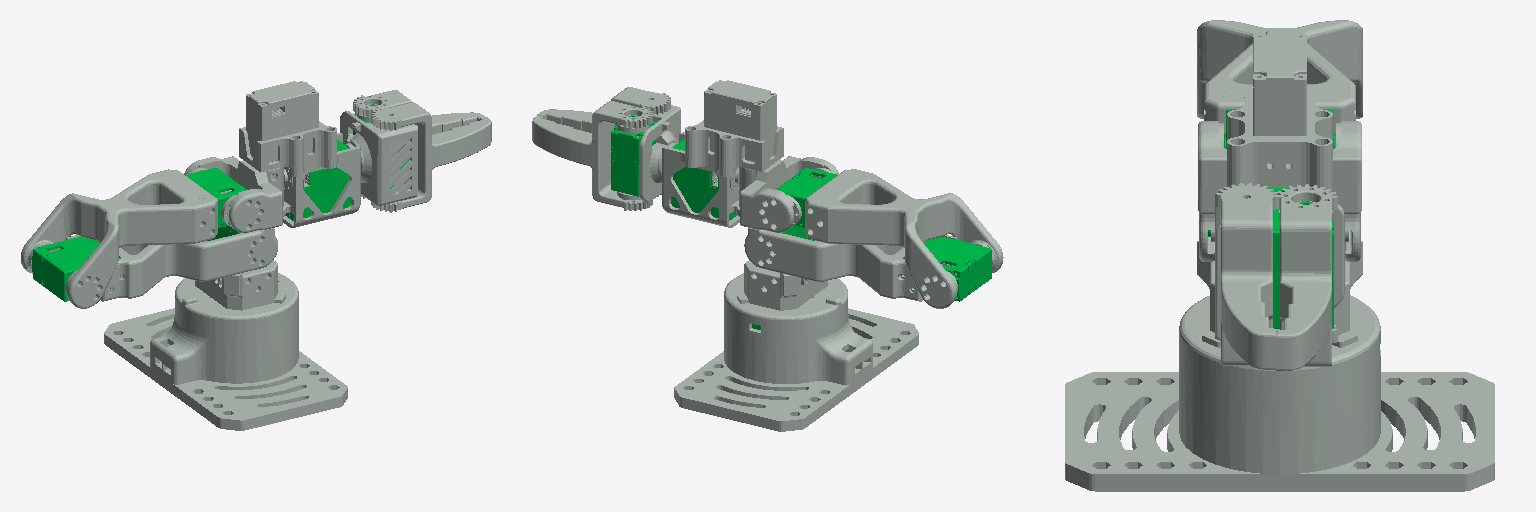
The robot description file, URDF, robot "stararm102_description":
<?xml version='1.0' encoding='utf-8'?>
<robot name="stararm102_description">
  <material name="anodized_grey">
    <color rgba="0.720 0.760 0.730 1" />
  </material>
  <material name="motor_green">
    <color rgba="0.000 0.784 0.325 1" />
  </material>
  <link name="base_link">
    <inertial>
      <origin xyz="-0.00507886641574018 -3.42055196168034E-05 0.0170541570471663" rpy="0 0 0" />
      <mass value="0.155441639095221" />
      <inertia ixx="0.000211774147683076" ixy="-1.12835975463621E-08" ixz="-1.66282304179735E-06" iyy="0.000108041554696676" iyz="3.2421968022911E-08" izz="0.000295757258206271" />
    </inertial>
    <collision>
      <origin xyz="0 0 0" rpy="0 0 0" />
      <geometry>
        <mesh filename="package://stararm102/meshes/base_link.STL" />
      </geometry>
    </collision>
    <visual>
      <origin xyz="0 0 0" rpy="0 0 0" />
      <geometry>
        <mesh filename="package://stararm102/meshes/shells/base_link__0.STL" />
      </geometry>
      <material name="motor_green" />
    </visual>
    <visual>
      <origin xyz="0 0 0" rpy="0 0 0" />
      <geometry>
        <mesh filename="package://stararm102/meshes/shells/base_link__1.STL" />
      </geometry>
      <material name="anodized_grey" />
    </visual>
    <visual>
      <origin xyz="0 0 0" rpy="0 0 0" />
      <geometry>
        <mesh filename="package://stararm102/meshes/shells/base_link__2.STL" />
      </geometry>
      <material name="anodized_grey" />
    </visual>
    <visual>
      <origin xyz="0 0 0" rpy="0 0 0" />
      <geometry>
        <mesh filename="package://stararm102/meshes/shells/base_link__3.STL" />
      </geometry>
      <material name="anodized_grey" />
    </visual>
    <visual>
      <origin xyz="0 0 0" rpy="0 0 0" />
      <geometry>
        <mesh filename="package://stararm102/meshes/shells/base_link__4.STL" />
      </geometry>
      <material name="anodized_grey" />
    </visual>
  </link>
  <link name="link1">
    <inertial>
      <origin xyz="-0.000860795817551681 3.48041004087085E-05 0.0388877617080775" rpy="0 0 0" />
      <mass value="0.0365919096309897" />
      <inertia ixx="1.06390422111377E-05" ixy="1.47026736408431E-13" ixz="3.78567348260604E-07" iyy="6.84495444026531E-06" iyz="-3.37080406447148E-09" izz="1.2039407998213E-05" />
    </inertial>
    <collision>
      <origin xyz="0 0 0" rpy="0 0 0" />
      <geometry>
        <mesh filename="package://stararm102/meshes/link1.STL" />
      </geometry>
    </collision>
    <visual>
      <origin xyz="0 0 0" rpy="0 0 0" />
      <geometry>
        <mesh filename="package://stararm102/meshes/shells/link1__0.STL" />
      </geometry>
      <material name="motor_green" />
    </visual>
    <visual>
      <origin xyz="0 0 0" rpy="0 0 0" />
      <geometry>
        <mesh filename="package://stararm102/meshes/shells/link1__1.STL" />
      </geometry>
      <material name="anodized_grey" />
    </visual>
    <visual>
      <origin xyz="0 0 0" rpy="0 0 0" />
      <geometry>
        <mesh filename="package://stararm102/meshes/shells/link1__2.STL" />
      </geometry>
      <material name="anodized_grey" />
    </visual>
    <visual>
      <origin xyz="0 0 0" rpy="0 0 0" />
      <geometry>
        <mesh filename="package://stararm102/meshes/shells/link1__3.STL" />
      </geometry>
      <material name="anodized_grey" />
    </visual>
    <visual>
      <origin xyz="0 0 0" rpy="0 0 0" />
      <geometry>
        <mesh filename="package://stararm102/meshes/shells/link1__4.STL" />
      </geometry>
      <material name="anodized_grey" />
    </visual>
  </link>
  <joint name="joint1" type="revolute">
    <origin xyz="0 0 0.0283500000000012" rpy="0 0 0" />
    <parent link="base_link" />
    <child link="link1" />
    <axis xyz="0 0 -1" />
    <limit lower="-2.27" upper="2.27" effort="100" velocity="1" />
  </joint>
  <link name="link2">
    <inertial>
      <origin xyz="0.065445114144764 4.80766137382835E-05 1.86081119329107E-05" rpy="0 0 0" />
      <mass value="0.0677741447743621" />
      <inertia ixx="2.49505701233235E-05" ixy="-1.4323495575068E-06" ixz="-2.88763068172859E-09" iyy="7.27062347454161E-05" iyz="5.01460295474944E-11" izz="5.48857485408553E-05" />
    </inertial>
    <collision>
      <origin xyz="0 0 0" rpy="0 0 0" />
      <geometry>
        <mesh filename="package://stararm102/meshes/link2.STL" />
      </geometry>
    </collision>
    <visual>
      <origin xyz="0 0 0" rpy="0 0 0" />
      <geometry>
        <mesh filename="package://stararm102/meshes/shells/link2__0.STL" />
      </geometry>
      <material name="motor_green" />
    </visual>
    <visual>
      <origin xyz="0 0 0" rpy="0 0 0" />
      <geometry>
        <mesh filename="package://stararm102/meshes/shells/link2__1.STL" />
      </geometry>
      <material name="anodized_grey" />
    </visual>
    <visual>
      <origin xyz="0 0 0" rpy="0 0 0" />
      <geometry>
        <mesh filename="package://stararm102/meshes/shells/link2__2.STL" />
      </geometry>
      <material name="anodized_grey" />
    </visual>
    <visual>
      <origin xyz="0 0 0" rpy="0 0 0" />
      <geometry>
        <mesh filename="package://stararm102/meshes/shells/link2__3.STL" />
      </geometry>
      <material name="anodized_grey" />
    </visual>
    <visual>
      <origin xyz="0 0 0" rpy="0 0 0" />
      <geometry>
        <mesh filename="package://stararm102/meshes/shells/link2__4.STL" />
      </geometry>
      <material name="anodized_grey" />
    </visual>
  </link>
  <joint name="joint2" type="revolute">
    <origin xyz="0.000100000000001007 0 0.0620250000000017" rpy="-1.5707963267949 0 3.14159265358979" />
    <parent link="link1" />
    <child link="link2" />
    <axis xyz="0 0 -1" />
    <limit lower="0" upper="3.14" effort="100" velocity="1" />
  </joint>
  <link name="link3">
    <inertial>
      <origin xyz="0.0139670047463857 -0.0548362979855048 -0.0260232297832349" rpy="0 0 0" />
      <mass value="0.062483417986533" />
      <inertia ixx="6.07869930598935E-05" ixy="6.07457290650578E-06" ixz="1.72220333532639E-10" iyy="2.4119750081723E-05" iyz="-1.05927086495088E-08" izz="4.79411867478519E-05" />
    </inertial>
    <collision>
      <origin xyz="0 0 0" rpy="0 0 0" />
      <geometry>
        <mesh filename="package://stararm102/meshes/link3.STL" />
      </geometry>
    </collision>
    <visual>
      <origin xyz="0 0 0" rpy="0 0 0" />
      <geometry>
        <mesh filename="package://stararm102/meshes/shells/link3__0.STL" />
      </geometry>
      <material name="motor_green" />
    </visual>
    <visual>
      <origin xyz="0 0 0" rpy="0 0 0" />
      <geometry>
        <mesh filename="package://stararm102/meshes/shells/link3__1.STL" />
      </geometry>
      <material name="anodized_grey" />
    </visual>
    <visual>
      <origin xyz="0 0 0" rpy="0 0 0" />
      <geometry>
        <mesh filename="package://stararm102/meshes/shells/link3__2.STL" />
      </geometry>
      <material name="anodized_grey" />
    </visual>
    <visual>
      <origin xyz="0 0 0" rpy="0 0 0" />
      <geometry>
        <mesh filename="package://stararm102/meshes/shells/link3__3.STL" />
      </geometry>
      <material name="anodized_grey" />
    </visual>
    <visual>
      <origin xyz="0 0 0" rpy="0 0 0" />
      <geometry>
        <mesh filename="package://stararm102/meshes/shells/link3__4.STL" />
      </geometry>
      <material name="anodized_grey" />
    </visual>
  </link>
  <joint name="joint3" type="revolute">
    <origin xyz="0.120565306190578 -0.0100999999999999 0.0259999999999978" rpy="0 0 -1.5707963267949" />
    <parent link="link2" />
    <child link="link3" />
    <axis xyz="0 0 -1" />
    <limit lower="-3.14" upper="0" effort="100" velocity="1" />
  </joint>
  <link name="link4">
    <inertial>
      <origin xyz="0.0233852853653051 -0.00064950134956597 -4.72632631462466E-06" rpy="0 0 0" />
      <mass value="0.0290020616470162" />
      <inertia ixx="1.1313445878846E-05" ixy="2.04495765263871E-08" ixz="3.96927019964726E-09" iyy="1.29471641752426E-05" iyz="1.58418299959233E-09" izz="5.57726165351631E-06" />
    </inertial>
    <collision>
      <origin xyz="0 0 0" rpy="0 0 0" />
      <geometry>
        <mesh filename="package://stararm102/meshes/link4.STL" />
      </geometry>
    </collision>
    <visual>
      <origin xyz="0 0 0" rpy="0 0 0" />
      <geometry>
        <mesh filename="package://stararm102/meshes/shells/link4__0.STL" />
      </geometry>
      <material name="anodized_grey" />
    </visual>
  </link>
  <joint name="joint4" type="revolute">
    <origin xyz="0.0162194771204603 -0.107604056191361 -0.0259999999999976" rpy="0 0 -1.5707963267949" />
    <parent link="link3" />
    <child link="link4" />
    <axis xyz="0 0 -1" />
    <limit lower="-1.57" upper="2.2" effort="100" velocity="1" />
  </joint>
  <link name="link5">
    <inertial>
      <origin xyz="0.0239721333681056 1.60405714164091E-06 0.0123439857182104" rpy="0 0 0" />
      <mass value="0.04381347428302" />
      <inertia ixx="8.71603004200794E-06" ixy="6.14891079200239E-10" ixz="2.11746739586546E-07" iyy="1.364277032058E-05" iyz="1.11466543450896E-10" izz="1.22790054604825E-05" />
    </inertial>
    <collision>
      <origin xyz="0 0 0" rpy="0 0 0" />
      <geometry>
        <mesh filename="package://stararm102/meshes/link5.STL" />
      </geometry>
    </collision>
    <visual>
      <origin xyz="0 0 0" rpy="0 0 0" />
      <geometry>
        <mesh filename="package://stararm102/meshes/shells/link5__0.STL" />
      </geometry>
      <material name="motor_green" />
    </visual>
    <visual>
      <origin xyz="0 0 0" rpy="0 0 0" />
      <geometry>
        <mesh filename="package://stararm102/meshes/shells/link5__1.STL" />
      </geometry>
      <material name="anodized_grey" />
    </visual>
    <visual>
      <origin xyz="0 0 0" rpy="0 0 0" />
      <geometry>
        <mesh filename="package://stararm102/meshes/shells/link5__2.STL" />
      </geometry>
      <material name="anodized_grey" />
    </visual>
    <visual>
      <origin xyz="0 0 0" rpy="0 0 0" />
      <geometry>
        <mesh filename="package://stararm102/meshes/shells/link5__3.STL" />
      </geometry>
      <material name="anodized_grey" />
    </visual>
    <visual>
      <origin xyz="0 0 0" rpy="0 0 0" />
      <geometry>
        <mesh filename="package://stararm102/meshes/shells/link5__4.STL" />
      </geometry>
      <material name="anodized_grey" />
    </visual>
    <visual>
      <origin xyz="0 0 0" rpy="0 0 0" />
      <geometry>
        <mesh filename="package://stararm102/meshes/shells/link5__5.STL" />
      </geometry>
      <material name="anodized_grey" />
    </visual>
    <visual>
      <origin xyz="0 0 0" rpy="0 0 0" />
      <geometry>
        <mesh filename="package://stararm102/meshes/shells/link5__6.STL" />
      </geometry>
      <material name="anodized_grey" />
    </visual>
    <visual>
      <origin xyz="0 0 0" rpy="0 0 0" />
      <geometry>
        <mesh filename="package://stararm102/meshes/shells/link5__7.STL" />
      </geometry>
      <material name="anodized_grey" />
    </visual>
    <visual>
      <origin xyz="0 0 0" rpy="0 0 0" />
      <geometry>
        <mesh filename="package://stararm102/meshes/shells/link5__8.STL" />
      </geometry>
      <material name="anodized_grey" />
    </visual>
  </link>
  <joint name="joint5" type="revolute">
    <origin xyz="0.0350000000000005 -0.0013799999999997 0" rpy="-1.57079632679489 0 0" />
    <parent link="link4" />
    <child link="link5" />
    <axis xyz="0 0 -1" />
    <limit lower="-1.2" upper="1.2" effort="100" velocity="1" />
  </joint>
  <link name="link6">
    <inertial>
      <origin xyz="0.00415459393144704 6.90476927523165E-05 -0.0776167187492962" rpy="0 0 0" />
      <mass value="0.0277279215984807" />
      <inertia ixx="6.06312512308252E-06" ixy="3.91296868794582E-08" ixz="-1.01016013762684E-06" iyy="6.31326639496487E-06" iyz="9.82075534976282E-09" izz="7.98591452298848E-06" />
    </inertial>
    <collision>
      <origin xyz="0 0 0" rpy="0 0 0" />
      <geometry>
        <mesh filename="package://stararm102/meshes/link6.STL" />
      </geometry>
    </collision>
    <visual>
      <origin xyz="0 0 0" rpy="0 0 0" />
      <geometry>
        <mesh filename="package://stararm102/meshes/shells/link6__0.STL" />
      </geometry>
      <material name="motor_green" />
    </visual>
    <visual>
      <origin xyz="0 0 0" rpy="0 0 0" />
      <geometry>
        <mesh filename="package://stararm102/meshes/shells/link6__1.STL" />
      </geometry>
      <material name="anodized_grey" />
    </visual>
    <visual>
      <origin xyz="0 0 0" rpy="0 0 0" />
      <geometry>
        <mesh filename="package://stararm102/meshes/shells/link6__2.STL" />
      </geometry>
      <material name="anodized_grey" />
    </visual>
    <visual>
      <origin xyz="0 0 0" rpy="0 0 0" />
      <geometry>
        <mesh filename="package://stararm102/meshes/shells/link6__3.STL" />
      </geometry>
      <material name="anodized_grey" />
    </visual>
    <visual>
      <origin xyz="0 0 0" rpy="0 0 0" />
      <geometry>
        <mesh filename="package://stararm102/meshes/shells/link6__4.STL" />
      </geometry>
      <material name="anodized_grey" />
    </visual>
  </link>
  <joint name="joint6" type="revolute">
    <origin xyz="0.15168 0 0.005225" rpy="-1.5708 0 -1.5708" />
    <parent link="link5" />
    <child link="link6" />
    <axis xyz="0 0 -1" />
    <limit lower="-3.14" upper="3.14" effort="100" velocity="1" />
  </joint>
  <link name="link7_left">
    <inertial>
      <origin xyz="0.0281158042585857 0.00012184612342972 0.000226777556244492" rpy="0 0 0" />
      <mass value="0.0209012827567763" />
      <inertia ixx="6.35411360036268E-06" ixy="-2.90503922182143E-07" ixz="6.32393072078588E-08" iyy="1.42917487489547E-05" iyz="1.63150501633264E-10" izz="9.06820649030484E-06" />
    </inertial>
    <collision>
      <origin xyz="0 0 0" rpy="0 0 0" />
      <geometry>
        <mesh filename="package://stararm102/meshes/link7_left.STL" />
      </geometry>
    </collision>
    <visual>
      <origin xyz="0 0 0" rpy="0 0 0" />
      <geometry>
        <mesh filename="package://stararm102/meshes/shells/link7_left__0.STL" />
      </geometry>
      <material name="anodized_grey" />
    </visual>
  </link>
  <joint name="joint7_left" type="revolute">
    <origin xyz="0.012325 0 -0.07313" rpy="1.5708 -1.5708 0" />
    <parent link="link6" />
    <child link="link7_left" />
    <axis xyz="0 0 -1" />
    <limit lower="0" upper="1.57" effort="5" velocity="3.14" />
  </joint>
  <link name="link7_right">
    <inertial>
      <origin xyz="0.029631 -9.0637E-05 -0.0004" rpy="0 0 0" />
      <mass value="0.019895" />
      <inertia ixx="5.549E-06" ixy="3.0636E-07" ixz="1.641E-12" iyy="1.2591E-05" iyz="-4.8393E-13" izz="8.1517E-06" />
    </inertial>
    <collision>
      <origin xyz="0 0 0" rpy="0 0 0" />
      <geometry>
        <mesh filename="package://stararm102/meshes/link7_right.STL" />
      </geometry>
    </collision>
    <visual>
      <origin xyz="0 0 0" rpy="0 0 0" />
      <geometry>
        <mesh filename="package://stararm102/meshes/shells/link7_right__0.STL" />
      </geometry>
      <material name="anodized_grey" />
    </visual>
  </link>
  <joint name="joint7_right" type="revolute">
    <origin xyz="-0.009675 0 -0.07313" rpy="1.5708 -1.5708 0" />
    <parent link="link6" />
    <child link="link7_right" />
    <axis xyz="0 0 -1" />
    <limit lower="-1.57" upper="0" effort="5" velocity="3.14" />
    <mimic joint="joint7_left" multiplier="-1" />
  </joint>
</robot>

--- What the picture shows (computed from the rendered views, not written in the file) ---
3 views of the same robot in one strip: view 1: azimuth 30°, elevation 25°; view 2: azimuth 150°, elevation 25°; view 3: azimuth 270°, elevation 25° (orthographic).
Robot: stararm102_description — 9 links, 8 joints (8 revolute); root link base_link; default pose: all joints at 0.
Visible links, largest first — view 1: base_link, link3, link5, link2, link6, link7_left, link4, link1, link7_right; view 2: base_link, link3, link5, link2, link7_right, link6, link4, link1, link7_left; view 3: base_link, link5, link3, link7_left, link7_right, link4, link6, link1, link2.
Link boxes in pixels (<box>): base_link: <box>104,273,347,430</box>; link3: <box>21,168,246,308</box>; link5: <box>239,81,360,227</box>; link2: <box>29,228,277,301</box>; link6: <box>340,104,417,205</box>; link7_left: <box>371,102,491,212</box>; link4: <box>184,156,283,232</box>; link1: <box>195,226,285,310</box>; link7_right: <box>353,90,484,199</box>; base_link: <box>674,273,918,431</box>; link3: <box>776,168,1003,308</box>; link5: <box>662,80,783,227</box>; link2: <box>744,228,994,301</box>; link7_right: <box>532,101,652,210</box>; link6: <box>611,105,680,202</box>; link4: <box>739,156,838,232</box>; link1: <box>737,226,827,310</box>; link7_left: <box>537,87,670,196</box>; base_link: <box>1065,295,1494,491</box>; link5: <box>1227,31,1332,191</box>; link3: <box>1197,20,1362,148</box>; link7_left: <box>1215,183,1278,369</box>; link7_right: <box>1276,184,1337,370</box>; link4: <box>1198,121,1361,213</box>; link6: <box>1215,201,1344,340</box>; link1: <box>1197,230,1362,347</box>; link2: <box>1199,212,1360,261</box>.
Size in the robot's own frame: 0.3078 by 0.16 by 0.177 metres.
37 mesh visuals loaded from 37 distinct referenced files (37 binary STL).
